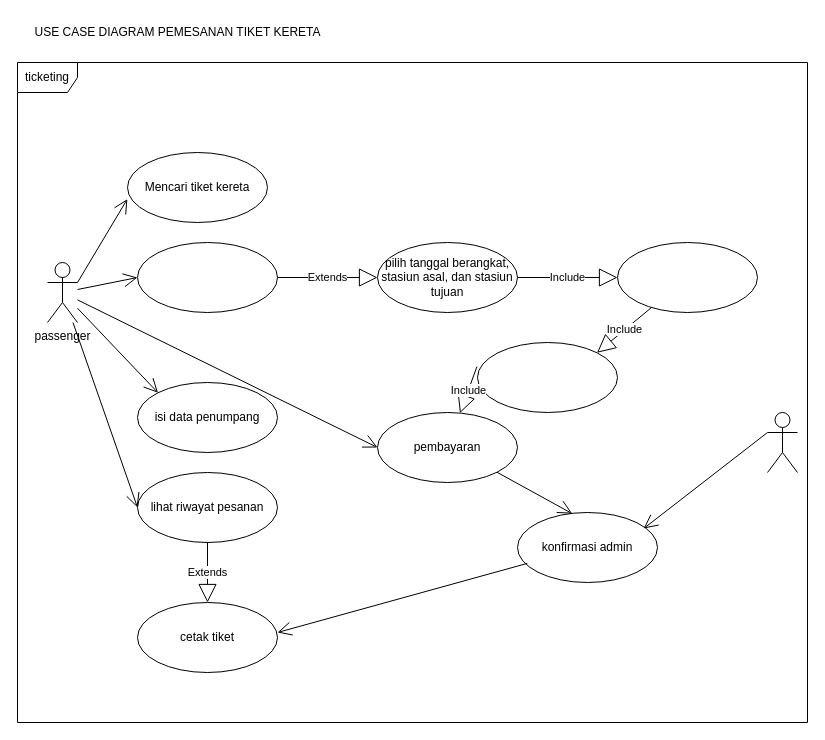
This 825x740 diagram has some shape labels left out. The centre of each missing label's shape, as x and y in pixels:
"admin" belongs at point (782, 442).
"Memesan tiket kereta" belongs at point (207, 277).
"pesan" belongs at point (547, 377).
"pilih kereta" belongs at point (687, 277).
